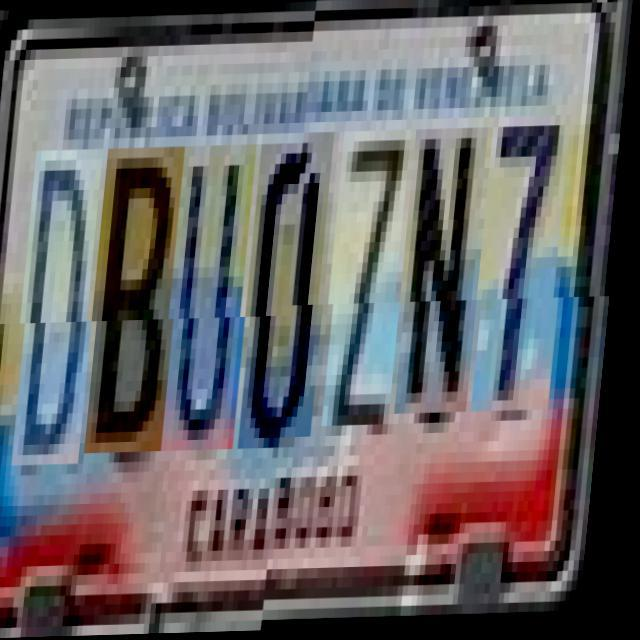0: (247, 144, 342, 451)
7: (479, 128, 578, 424)
B: (94, 148, 194, 454)
D: (21, 150, 111, 466)
N: (402, 140, 495, 427)
U: (170, 146, 265, 453)
Z: (330, 142, 419, 438)
